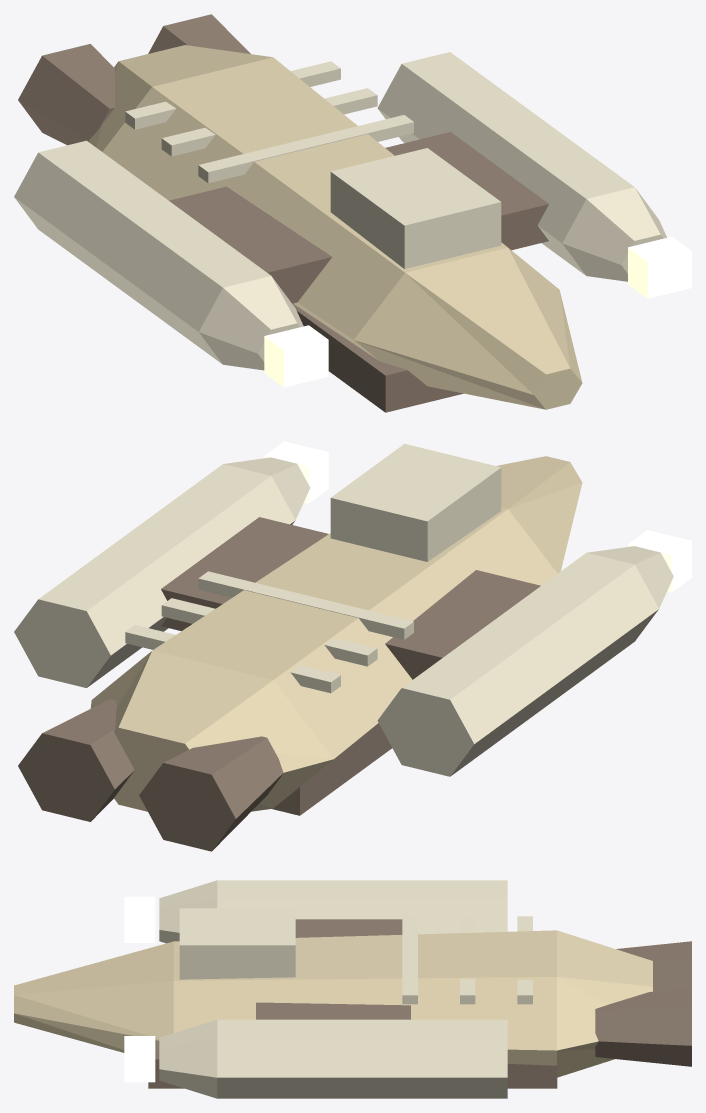
3 views of the same model, one above another, from view 1: azimuth 30°, elevation 25°; view 2: azimuth 150°, elevation 25°; view 3: azimuth 270°, elevation 25° (orthographic). The views are drawn at different scales.
Size of the model in its own units: 4.83 by 1.64 by 7.84.
